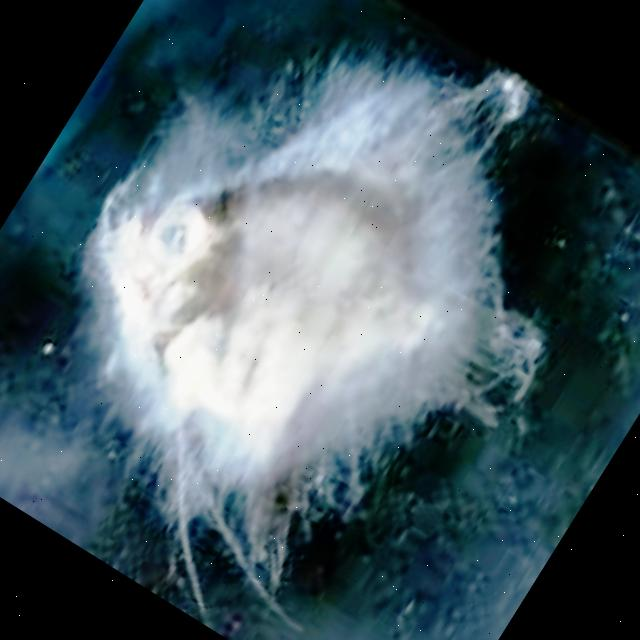Fungal Disease -Saprolegniasis-: (94, 50, 535, 592), (99, 55, 524, 543), (99, 55, 523, 534)
